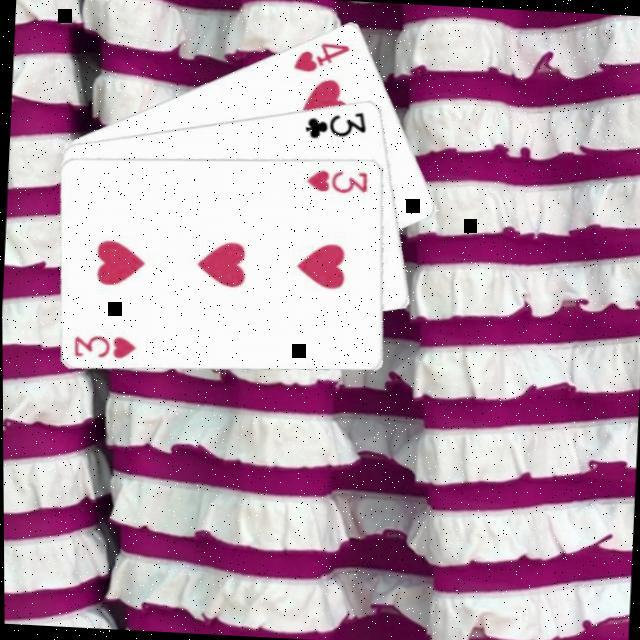3C: (300, 105, 370, 144)
3H: (69, 329, 138, 362), (303, 165, 370, 196)
4H: (289, 35, 353, 76)
